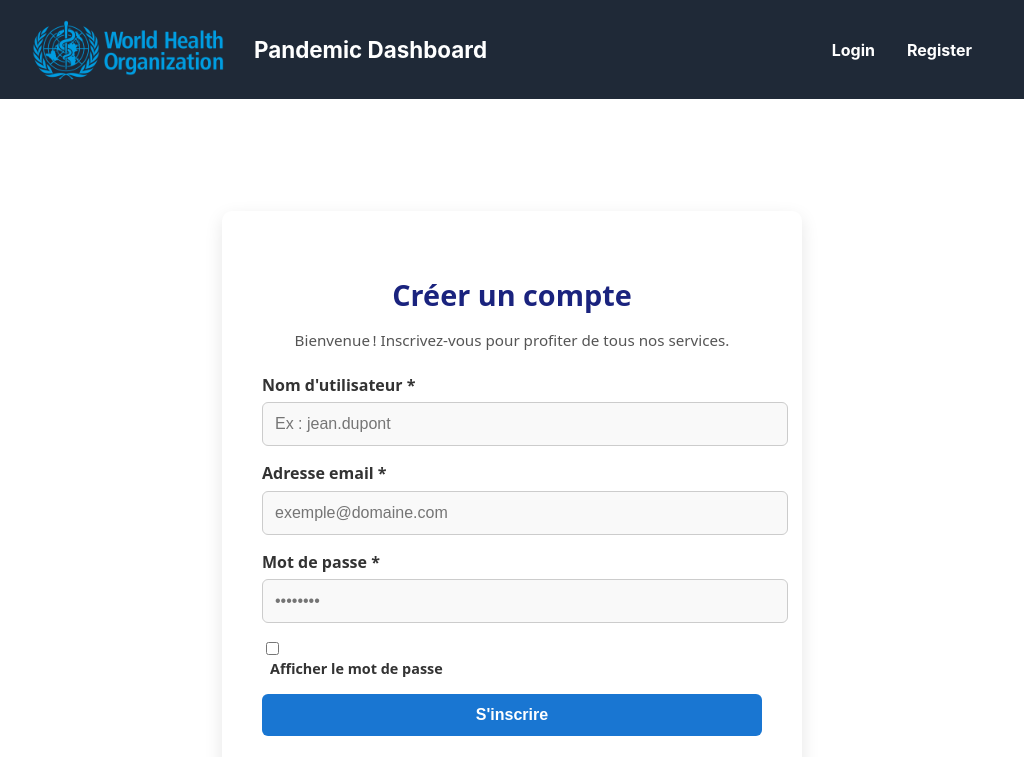
it: Formulaire d’inscription › soumet correctement le formulaire et affiche le message de succès
Type "testus" into the field with id "username". click: (525, 424)
box: [262,402,788,446]
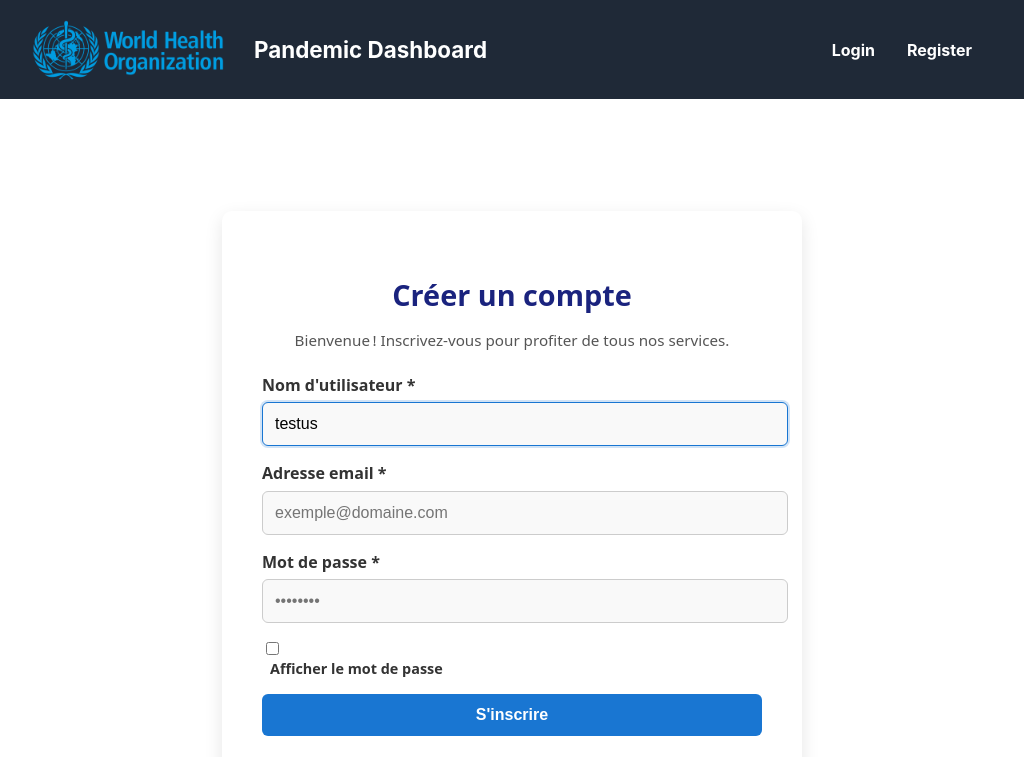
Type "test@exa.com" into the field with id "email". click: (525, 513)
box: [262,491,788,535]
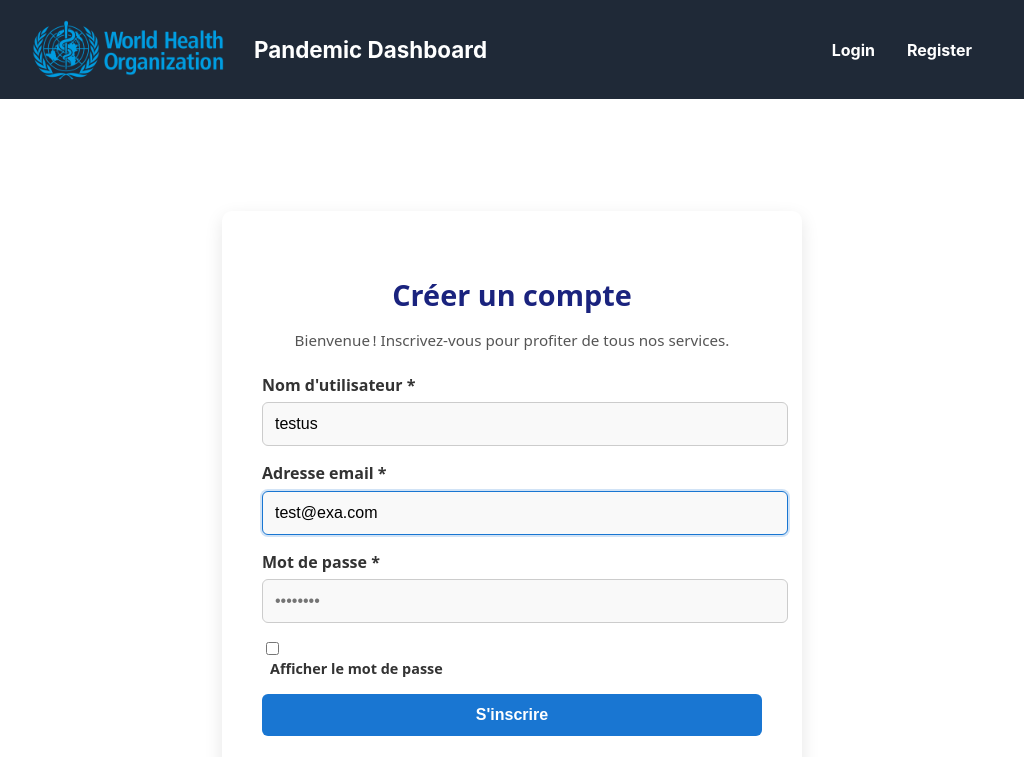
Type "mypass123" into the password field labelled "Mot de passe *". click: (525, 601)
box: [262,579,788,623]
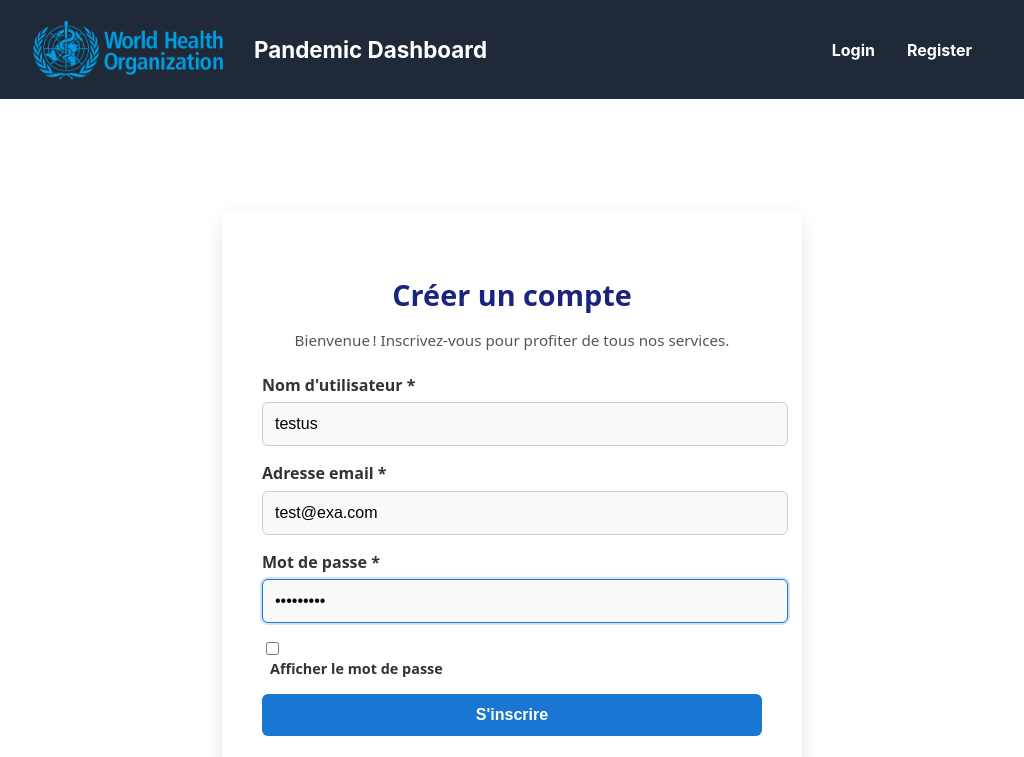
# ✅ Couvre la ligne non testée
Click the checkbox with id "showPassword". click: (273, 649)
box: [266,642,279,655]
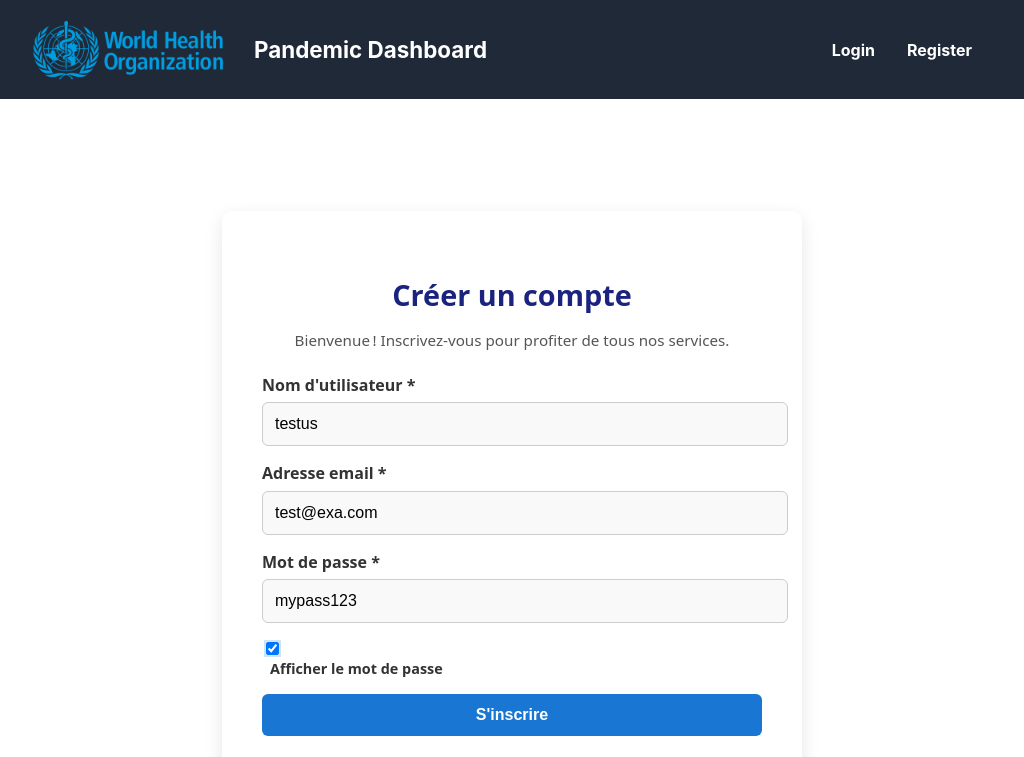
Submit the form, box [262,374,762,736]
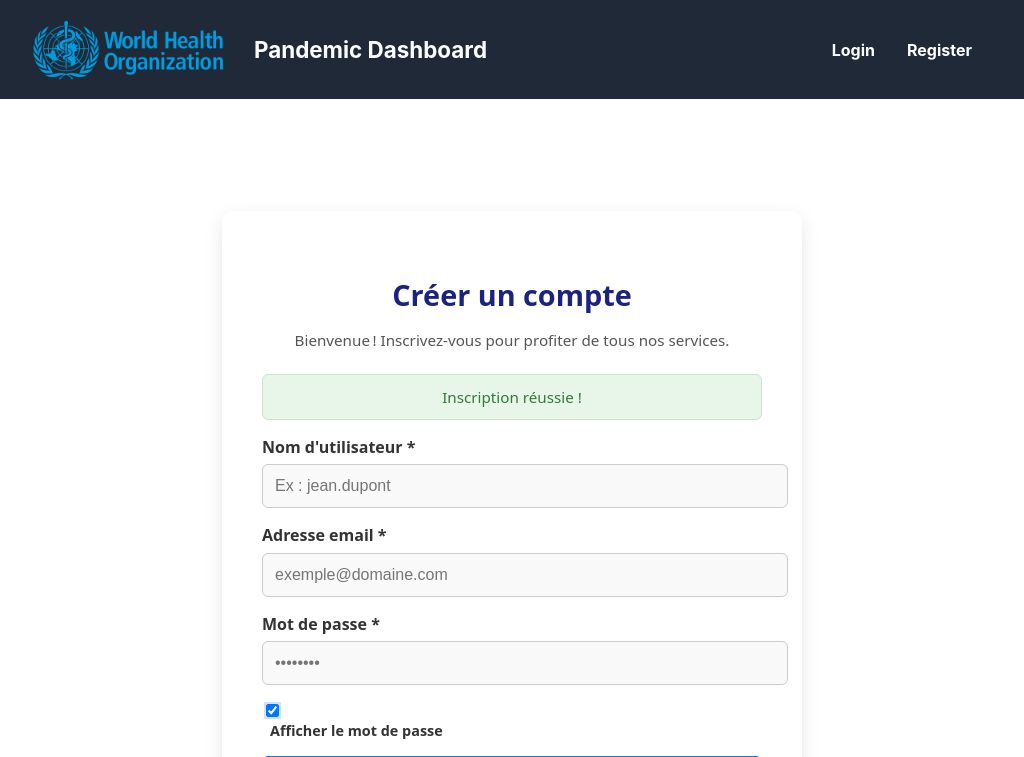
expect the text "Inscription réussie !" is shown: met, box [262,374,762,420]
